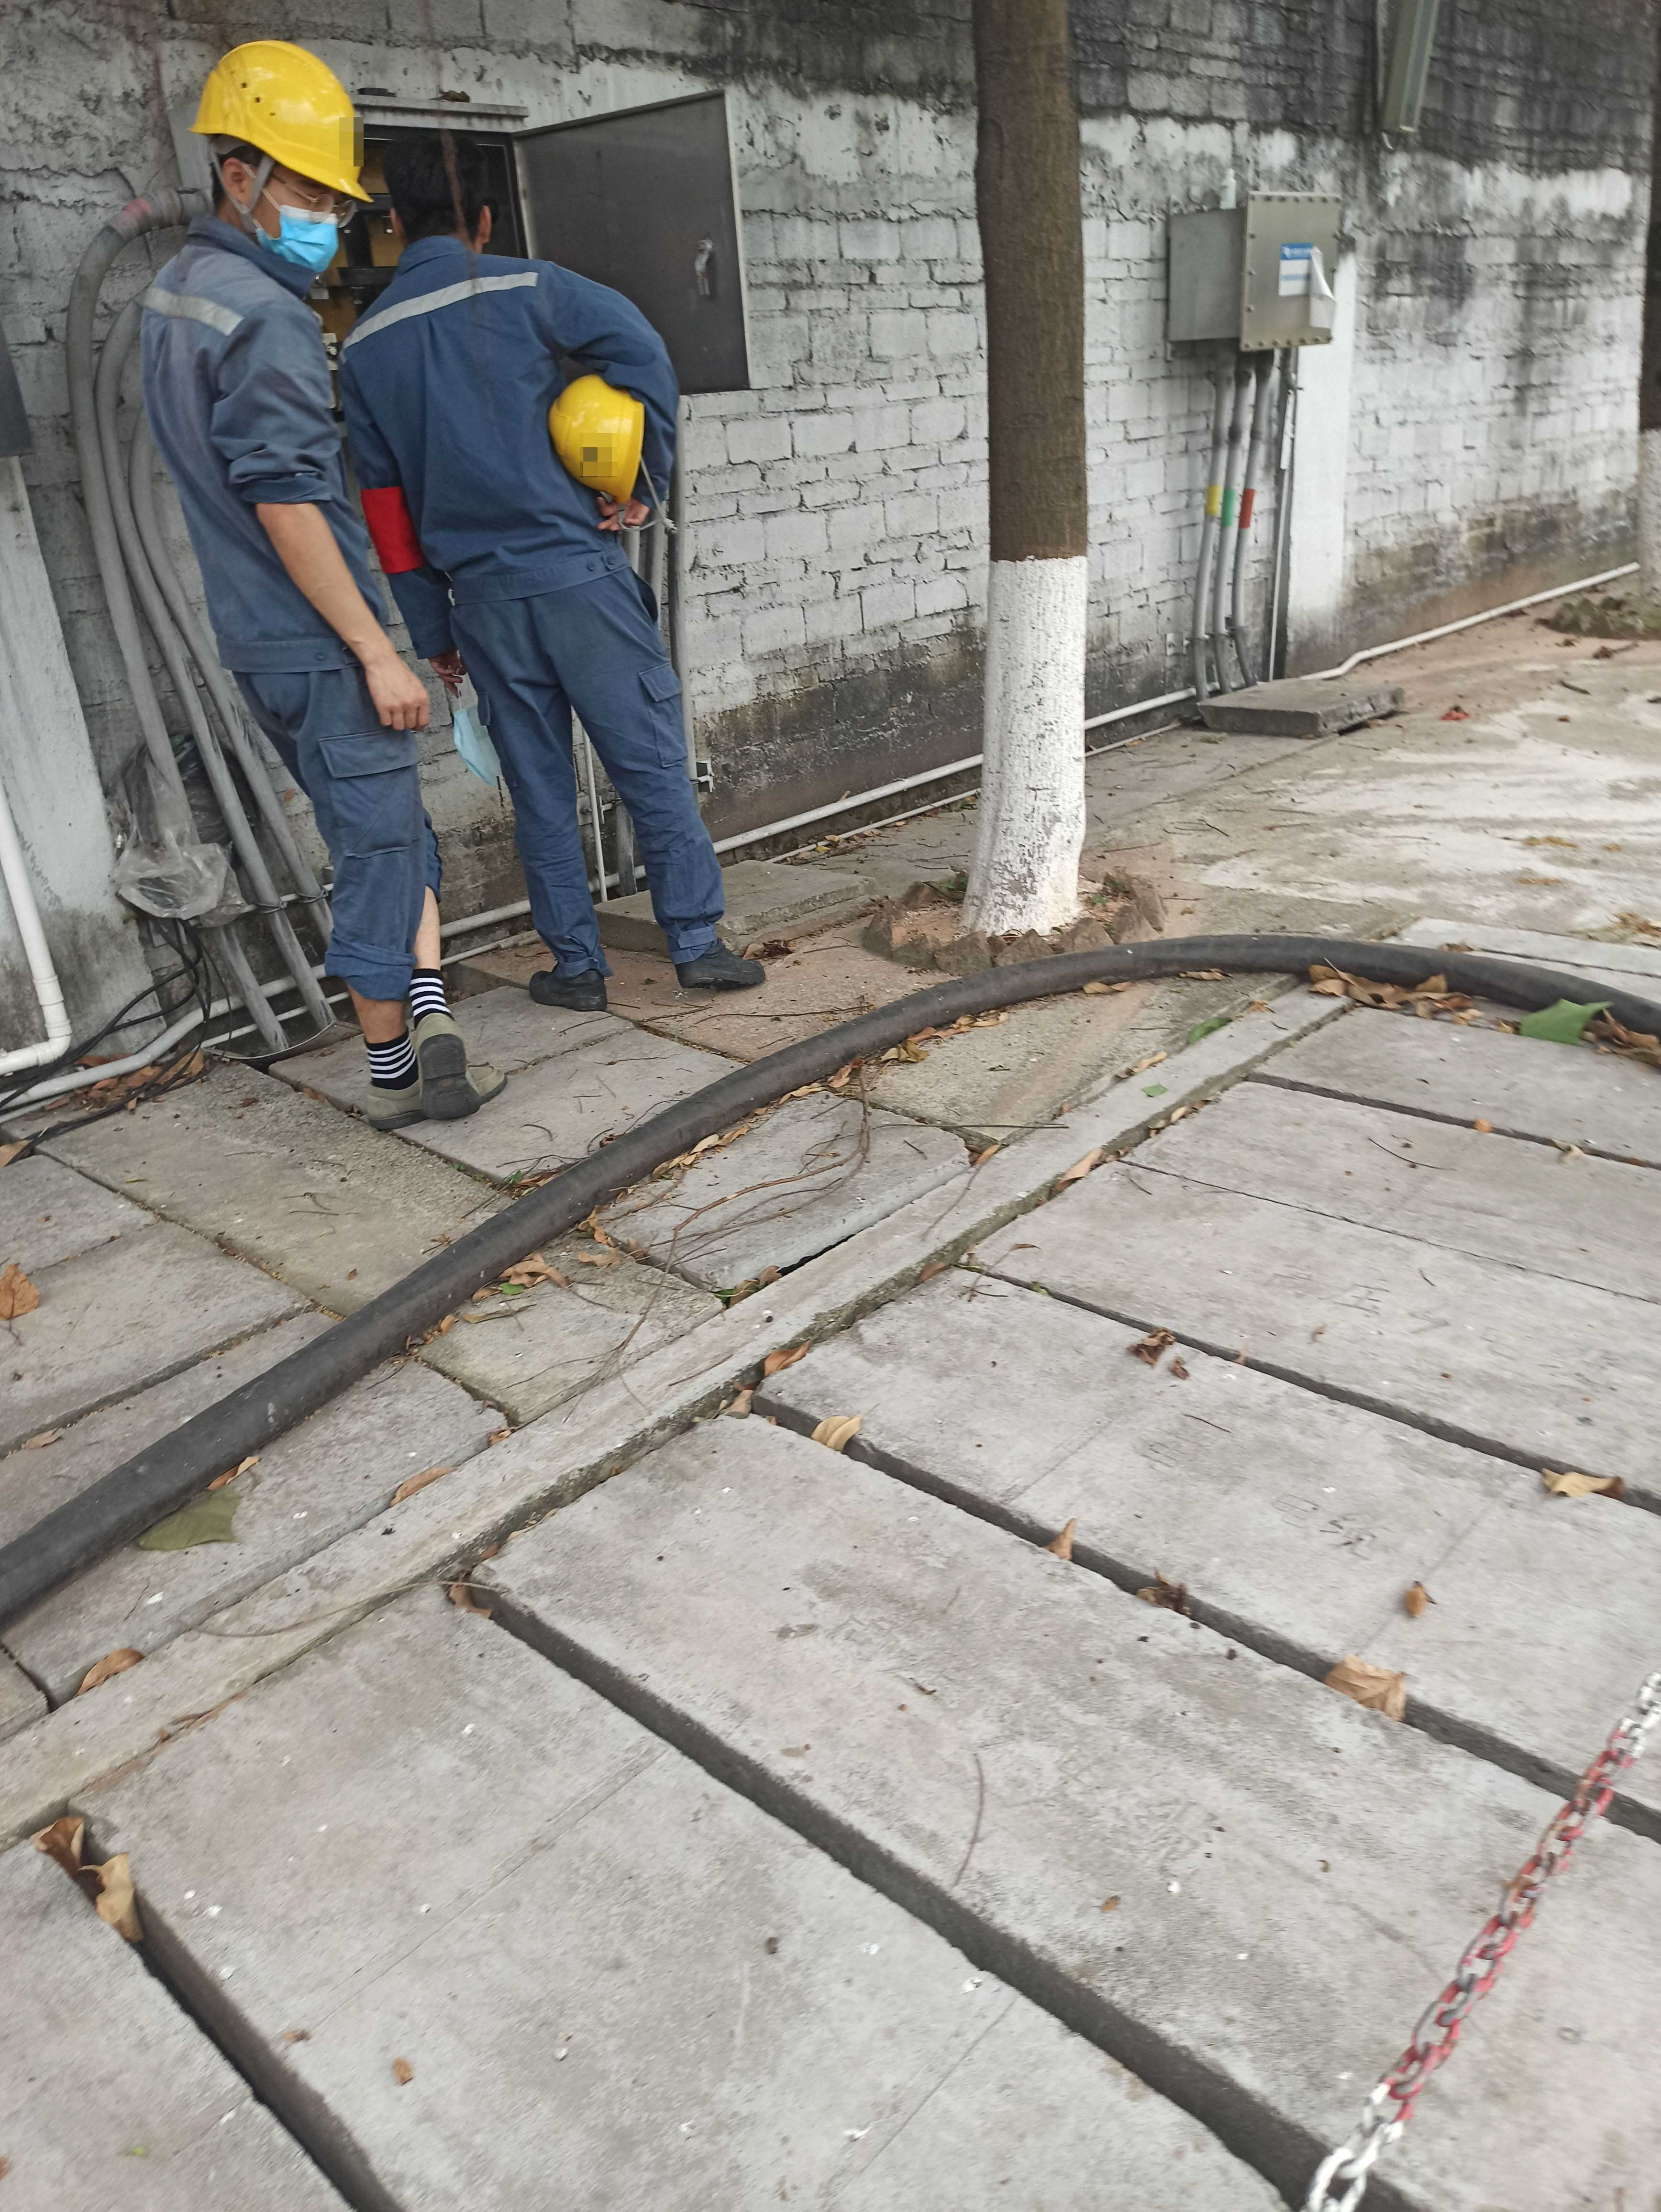downsuit: (454, 577, 733, 973), (229, 670, 450, 1008)
upsuit: (335, 236, 670, 586), (133, 227, 345, 661)
wrongbottom: (333, 872, 447, 1059)
wrongtop: (244, 468, 436, 731)
